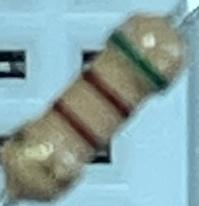Brown: (52, 97, 108, 157), (80, 68, 135, 122)
Green: (110, 28, 171, 93)
Side-Gold: (9, 128, 74, 195)
